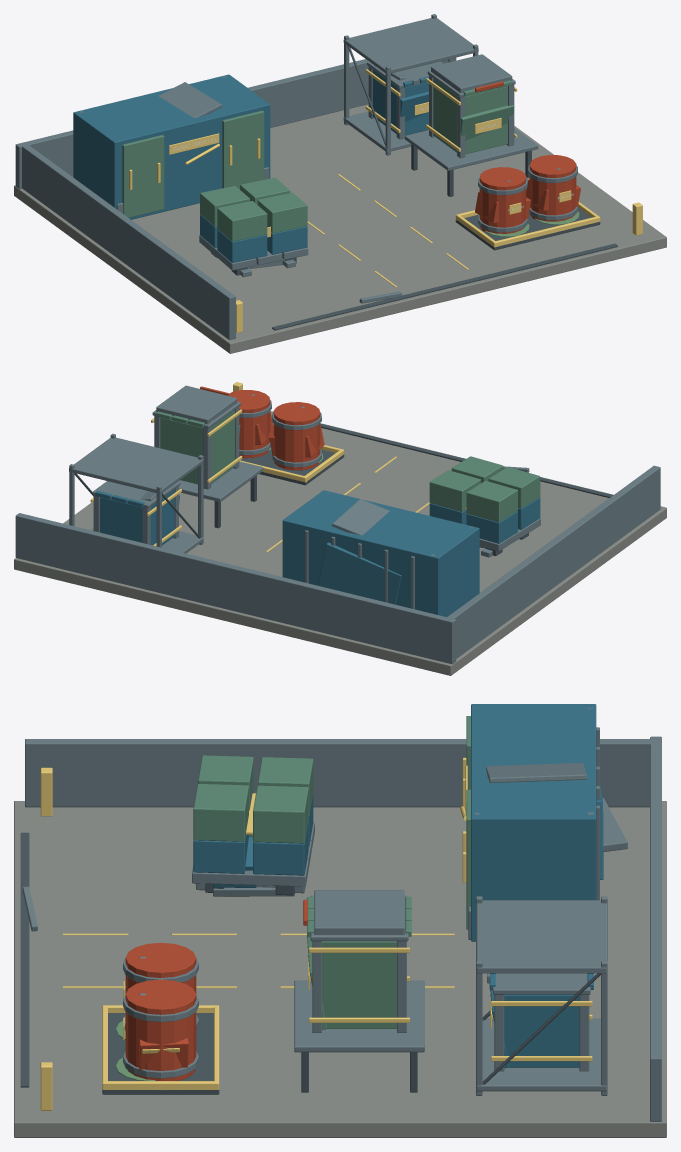
File: warehouse_scene_d2.glb
3 renders of one model, top to bottom at view 1: azimuth 30°, elevation 25°; view 2: azimuth 150°, elevation 25°; view 3: azimuth 270°, elevation 25°, orthographic. The views are drawn at different scales.
Visible parts, largest first — view 1: Loading bay slab.002, Container body.002, Left cutaway wall.002, Rear cutaway wall.002, Full depth shelf deck.005, Container door.005, Container door.004, Crate shell.005, Barrel body.004, Barrel body.005, Packing bench top.002, Reinforced lid.002 (+17 smaller); view 2: Loading bay slab.002, Rear cutaway wall.002, Container body.002, Left cutaway wall.002, Full depth shelf deck.005, Caved side, Crate shell.005, Barrel body.004, Crate shell.004, Reinforced lid.002, Stacked crate.021, Barrel body.005 (+15 smaller); view 3: Loading bay slab.002, Left cutaway wall.002, Container body.002, Full depth shelf deck.005, Crate shell.005, Barrel body.005, Packing bench top.002, Rear cutaway wall.002, Crate shell.004, Reinforced lid.002, Full depth shelf deck.004, Stacked crate.023 (+27 smaller).
Part boxes in pixels (<box>): Loading bay slab.002: <box>14,104,666,353</box>; Container body.002: <box>73,74,270,219</box>; Left cutaway wall.002: <box>21,143,235,339</box>; Rear cutaway wall.002: <box>15,57,456,189</box>; Full depth shelf deck.005: <box>343,18,478,74</box>; Container door.005: <box>122,135,164,217</box>; Container door.004: <box>222,110,264,189</box>; Crate shell.005: <box>433,78,507,154</box>; Barrel body.004: <box>479,167,526,233</box>; Barrel body.005: <box>529,155,576,221</box>; Packing bench top.002: <box>405,128,538,170</box>; Reinforced lid.002: <box>431,54,512,92</box>; Loading bay slab.002: <box>14,411,666,675</box>; Rear cutaway wall.002: <box>15,513,456,664</box>; Container body.002: <box>282,490,479,616</box>; Left cutaway wall.002: <box>446,465,660,658</box>; Full depth shelf deck.005: <box>69,437,203,493</box>; Caved side: <box>317,542,401,604</box>; Crate shell.005: <box>160,410,234,484</box>; Barrel body.004: <box>273,402,320,470</box>; Crate shell.004: <box>100,489,174,545</box>; Reinforced lid.002: <box>156,385,237,424</box>; Stacked crate.021: <box>466,480,517,522</box>; Barrel body.005: <box>229,390,270,458</box>; Loading bay slab.002: <box>14,801,666,1137</box>; Left cutaway wall.002: <box>25,739,654,807</box>; Container body.002: <box>471,704,596,941</box>; Full depth shelf deck.005: <box>476,900,606,973</box>; Crate shell.005: <box>322,941,396,1028</box>; Barrel body.005: <box>125,979,196,1080</box>; Packing bench top.002: <box>294,980,424,1052</box>; Rear cutaway wall.002: <box>650,736,661,1121</box>; Crate shell.004: <box>504,994,579,1067</box>; Reinforced lid.002: <box>314,890,404,934</box>; Full depth shelf deck.004: <box>476,1018,606,1091</box>; Stacked crate.023: <box>253,785,308,843</box>.
Bounding box in the file's own units: 14 × 3.44 × 12.
